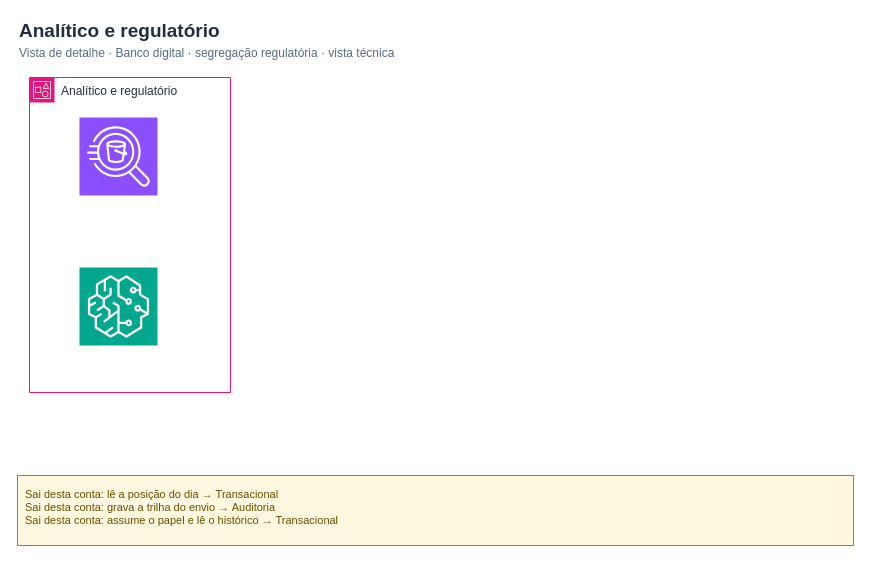
This 871x563 diagram has some shape labels left out. Each missing label, with the centre of its shape:
"Athena · consolidação do CADOC" belongs at pixel 118 156.
"SageMaker · limite de crédito" belongs at pixel 118 306.
